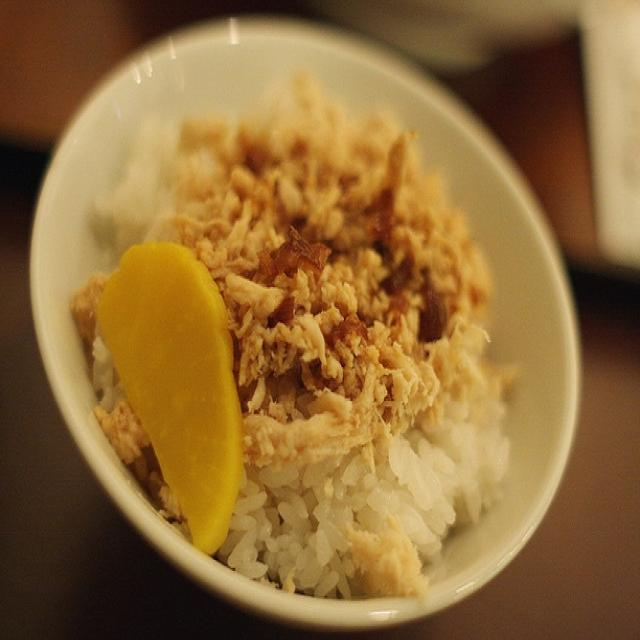猪肉菜式: (77, 73, 548, 594)
